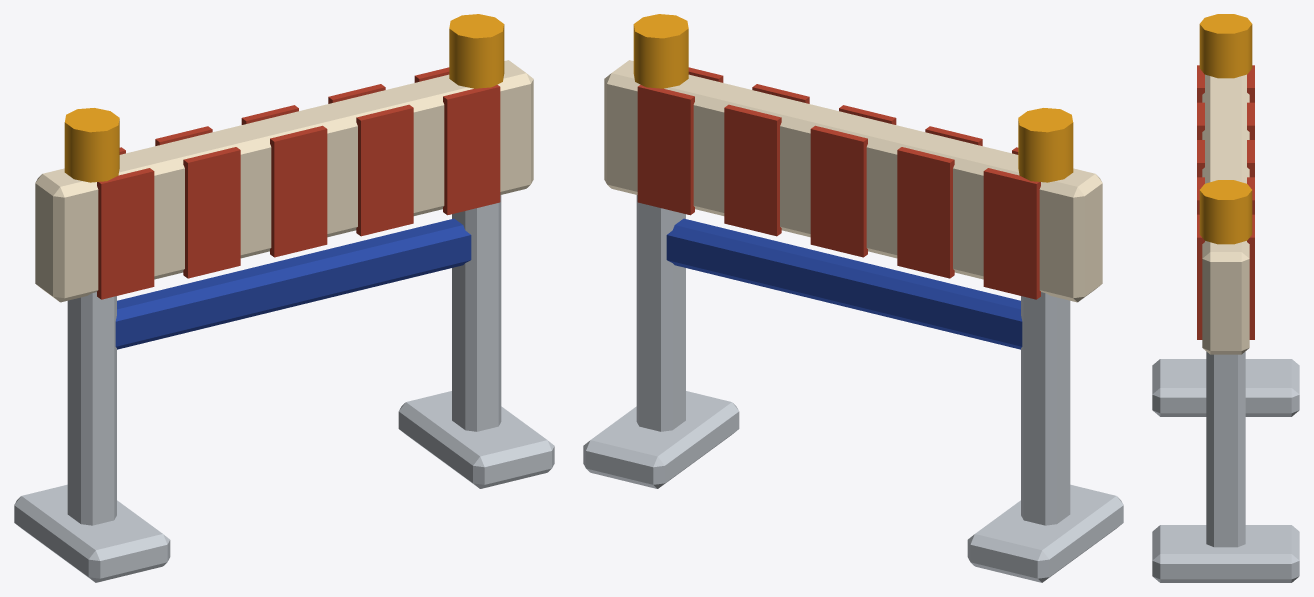
The model's file is barrier.glb.
3 views of the same model, side by side, from view 1: azimuth 30°, elevation 25°; view 2: azimuth 150°, elevation 25°; view 3: azimuth 270°, elevation 25° (orthographic). The views are drawn at different scales.
Parts seen in each view (by area): view 1: board, rail_low, leg_l, leg_r, foot_l, foot_r, stripe_2_f, stripe_4_f, stripe_0_f, stripe_1_f, stripe_3_f, lamp_l (+1 smaller); view 2: board, rail_low, leg_l, leg_r, foot_l, foot_r, stripe_2_b, stripe_4_b, stripe_0_b, stripe_1_b, stripe_3_b, lamp_l (+1 smaller); view 3: board, leg_r, foot_r, foot_l, lamp_l, lamp_r, stripe_4_f, stripe_4_b, stripe_1_f, stripe_1_b, stripe_2_f, stripe_2_b (+2 smaller).
Part boxes in pixels (<box>): board: <box>35,60,533,302</box>; rail_low: <box>115,218,471,349</box>; leg_l: <box>67,292,116,525</box>; leg_r: <box>452,195,501,431</box>; foot_l: <box>14,484,170,582</box>; foot_r: <box>398,391,554,488</box>; stripe_2_f: <box>270,125,327,257</box>; stripe_4_f: <box>443,84,500,215</box>; stripe_0_f: <box>97,168,154,299</box>; stripe_1_f: <box>183,147,240,278</box>; stripe_3_f: <box>356,104,413,236</box>; lamp_l: <box>64,108,119,182</box>; board: <box>604,60,1102,302</box>; rail_low: <box>666,218,1022,349</box>; leg_l: <box>1021,292,1070,525</box>; leg_r: <box>636,195,685,431</box>; foot_l: <box>967,484,1123,582</box>; foot_r: <box>583,391,739,488</box>; stripe_2_b: <box>810,125,867,257</box>; stripe_4_b: <box>637,84,694,215</box>; stripe_0_b: <box>983,168,1040,299</box>; stripe_1_b: <box>897,147,954,278</box>; stripe_3_b: <box>724,104,781,236</box>; lamp_l: <box>1018,108,1073,182</box>; board: <box>1202,74,1249,354</box>; leg_r: <box>1206,351,1245,547</box>; foot_r: <box>1152,525,1299,582</box>; foot_l: <box>1152,359,1299,416</box>; lamp_l: <box>1199,14,1252,78</box>; lamp_r: <box>1199,180,1252,244</box>; stripe_4_f: <box>1197,214,1204,339</box>; stripe_4_b: <box>1247,214,1254,339</box>; stripe_1_f: <box>1197,102,1204,139</box>; stripe_1_b: <box>1247,102,1254,139</box>; stripe_2_f: <box>1197,140,1204,177</box>; stripe_2_b: <box>1247,140,1254,177</box>.
Bounding box in the file's own units: 2 × 1.7 × 0.6.
